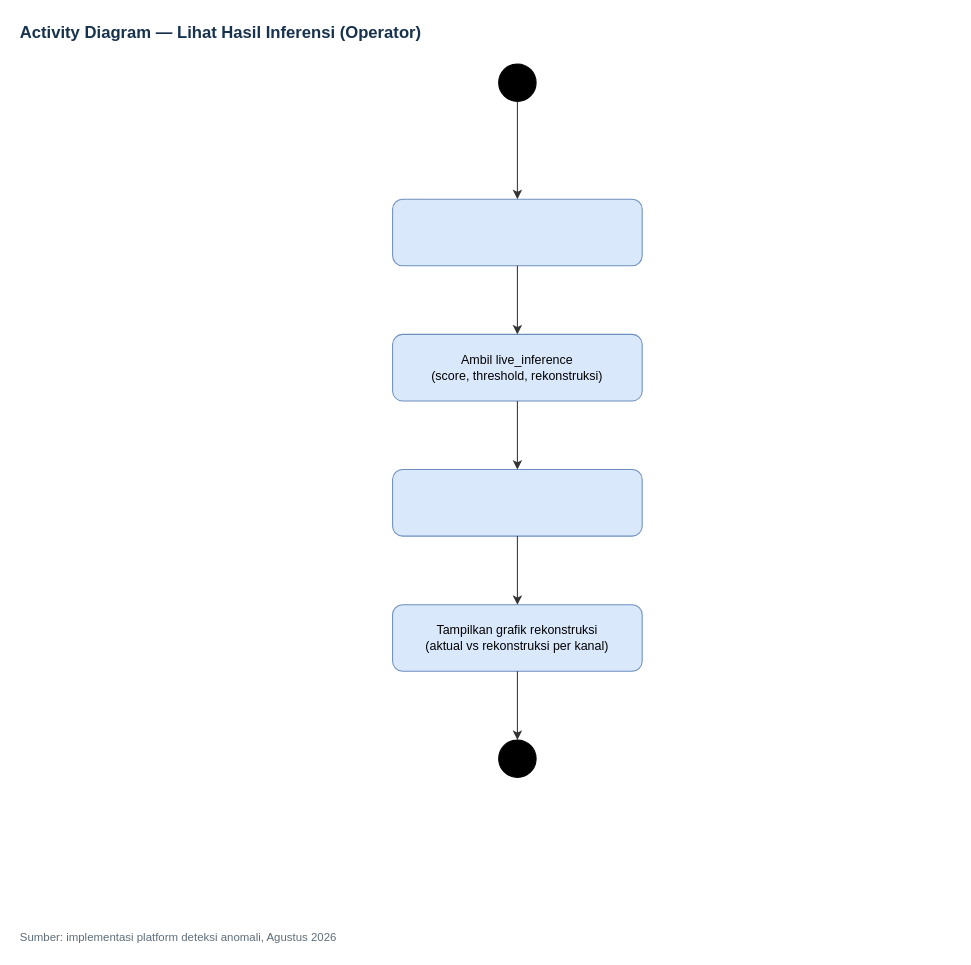
The diagram is 971 pixels wide and 965 high, and some of its shapes have lost their labels. The shapes that lost their labels are listed below. From the top down, each one's box as (x1, y1, x2, y2) in pixels, then its label:
(392, 198, 642, 266): Operator buka panel inferensi
(392, 469, 642, 536): Tampilkan grafik score vs threshold
